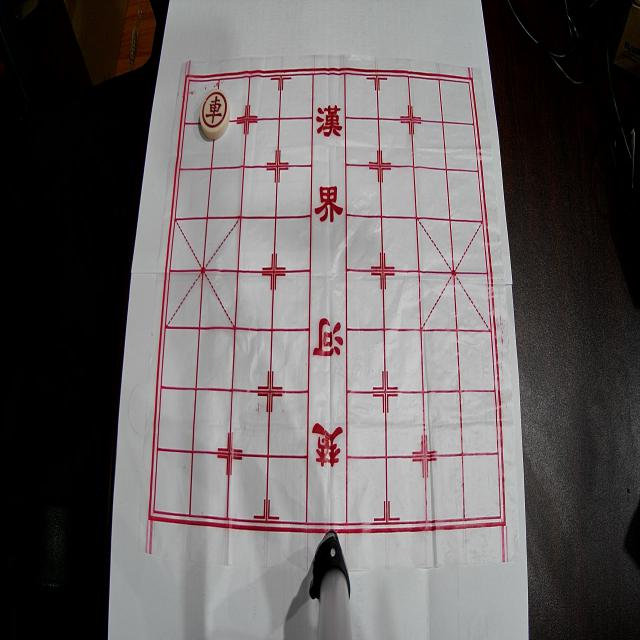red-chariot: (200, 89, 230, 139)
